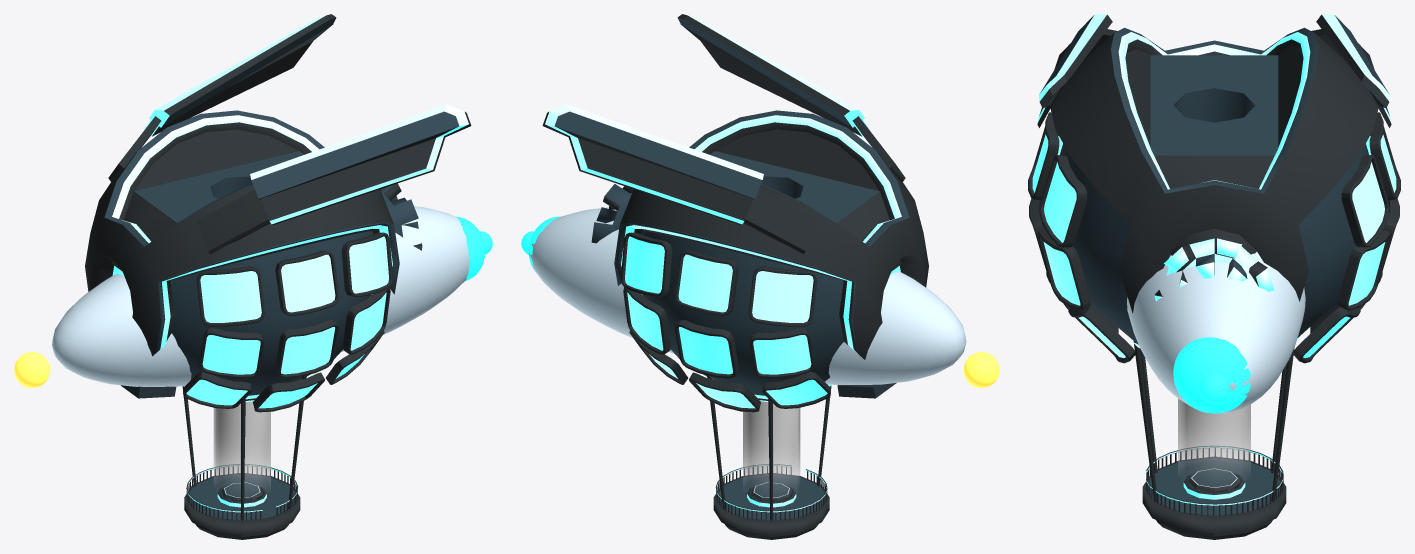
3 renders of one model, left to right at view 1: azimuth 30°, elevation 25°; view 2: azimuth 150°, elevation 25°; view 3: azimuth 270°, elevation 25°, orthographic. The views are drawn at different scales.
Visible parts, largest first — view 1: AI_PM_airship_cruiser_body, AI_PM_airship_cruiser_body_Aero_airship_screens_01, AI_PM_airship_visible_silver_hull, AI_PM_airship_cruiser_body_Aero_airship_wing_01, AI_PM_airship_cruiser_body_Aero_airship_base_01, AI_PM_airship_cruiser_body_Aero_airship_wing_02, AI_PM_airship_cruiser_body_ray, AI_PM_airship_rear_thruster, AI_PM_airship_blue_nose_cap, AI_PM_airship_cruiser_body_Aero_elevator_01; view 2: AI_PM_airship_cruiser_body, AI_PM_airship_cruiser_body_Aero_airship_screens_01, AI_PM_airship_visible_silver_hull, AI_PM_airship_cruiser_body_Aero_airship_wing_02, AI_PM_airship_cruiser_body_Aero_airship_base_01, AI_PM_airship_cruiser_body_Aero_airship_wing_01, AI_PM_airship_cruiser_body_ray, AI_PM_airship_rear_thruster, AI_PM_airship_lower_fin, AI_PM_airship_cruiser_body_Aero_elevator_01; view 3: AI_PM_airship_cruiser_body, AI_PM_airship_cruiser_body_Aero_airship_screens_01, AI_PM_airship_visible_silver_hull, AI_PM_airship_cruiser_body_Aero_airship_base_01, AI_PM_airship_cruiser_body_ray, AI_PM_airship_blue_nose_cap, AI_PM_airship_cruiser_body_Aero_airship_wing_01, AI_PM_airship_cruiser_body_Aero_airship_wing_02, AI_PM_airship_cruiser_body_Aero_elevator_01, AI_PM_airship_front_light.
Part boxes in pixels (box(x1,y1,x2,y2)): AI_PM_airship_cruiser_body: box(85, 110, 422, 520); AI_PM_airship_cruiser_body_Aero_airship_screens_01: box(183, 232, 392, 412); AI_PM_airship_visible_silver_hull: box(52, 206, 469, 386); AI_PM_airship_cruiser_body_Aero_airship_wing_01: box(196, 104, 471, 254); AI_PM_airship_cruiser_body_Aero_airship_base_01: box(184, 464, 300, 539); AI_PM_airship_cruiser_body_Aero_airship_wing_02: box(108, 14, 336, 181); AI_PM_airship_cruiser_body_ray: box(213, 401, 270, 492); AI_PM_airship_rear_thruster: box(14, 352, 50, 387); AI_PM_airship_blue_nose_cap: box(456, 216, 485, 281); AI_PM_airship_cruiser_body_Aero_elevator_01: box(222, 482, 262, 501); AI_PM_airship_cruiser_body: box(591, 110, 928, 520); AI_PM_airship_cruiser_body_Aero_airship_screens_01: box(621, 232, 830, 412); AI_PM_airship_visible_silver_hull: box(528, 207, 966, 384); AI_PM_airship_cruiser_body_Aero_airship_wing_02: box(542, 104, 817, 254); AI_PM_airship_cruiser_body_Aero_airship_base_01: box(713, 464, 829, 539); AI_PM_airship_cruiser_body_Aero_airship_wing_01: box(677, 14, 905, 181); AI_PM_airship_cruiser_body_ray: box(743, 401, 800, 492); AI_PM_airship_rear_thruster: box(963, 352, 999, 387); AI_PM_airship_lower_fin: box(837, 383, 896, 398); AI_PM_airship_cruiser_body_Aero_elevator_01: box(751, 482, 791, 501); AI_PM_airship_cruiser_body: box(1050, 27, 1378, 501); AI_PM_airship_cruiser_body_Aero_airship_screens_01: box(1028, 112, 1400, 363); AI_PM_airship_visible_silver_hull: box(1127, 252, 1305, 413); AI_PM_airship_cruiser_body_Aero_airship_base_01: box(1142, 446, 1286, 539); AI_PM_airship_cruiser_body_ray: box(1178, 398, 1250, 481); AI_PM_airship_blue_nose_cap: box(1173, 337, 1250, 413); AI_PM_airship_cruiser_body_Aero_airship_wing_01: box(1037, 14, 1117, 127); AI_PM_airship_cruiser_body_Aero_airship_wing_02: box(1311, 14, 1391, 127); AI_PM_airship_cruiser_body_Aero_elevator_01: box(1188, 468, 1240, 492); AI_PM_airship_front_light: box(1199, 373, 1229, 403).
Bounding box in the file's own units: 1.15 × 1 × 0.6326.
10 materials, 4 textured.
